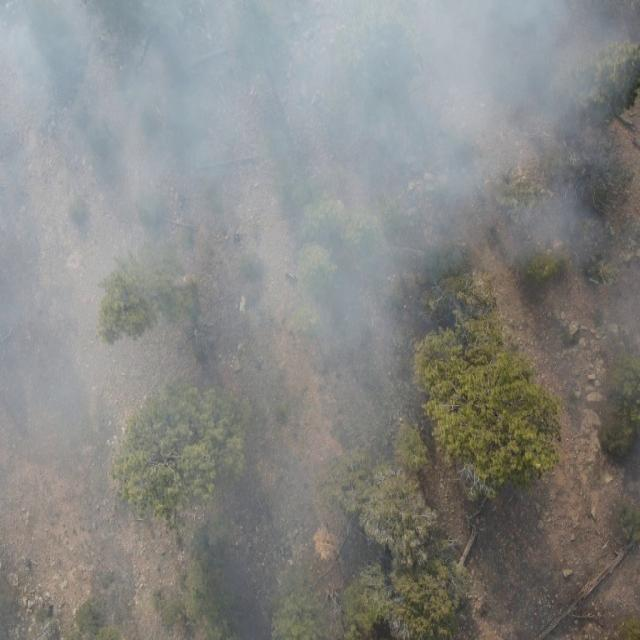smoke: (0, 0, 640, 276), (0, 276, 454, 640), (544, 276, 640, 415)
